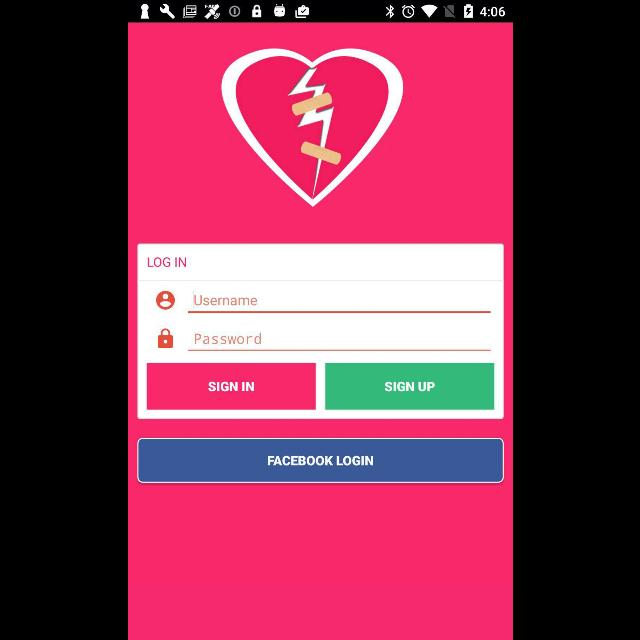icon: (156, 290, 174, 310), (158, 328, 172, 348)
image: (220, 49, 404, 208)
input: (186, 290, 489, 314), (188, 333, 490, 351)
text: (193, 334, 260, 344), (194, 295, 256, 305), (147, 256, 185, 268)
textbutton: (137, 438, 503, 482), (324, 362, 493, 410), (147, 362, 316, 410)
uppertaskbar: (128, 1, 512, 23)
